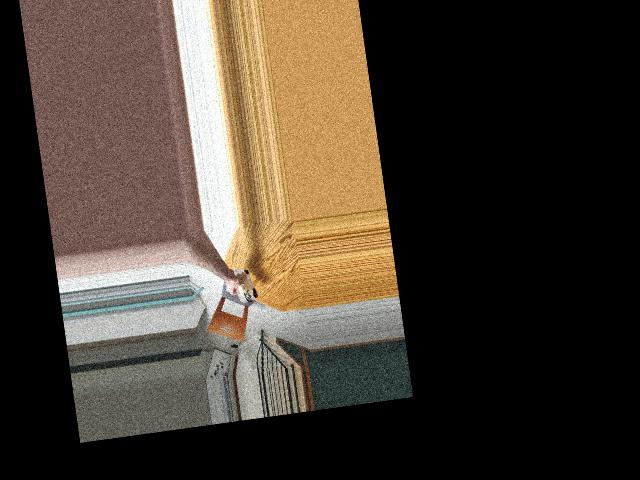cheese: (231, 267, 258, 302)
